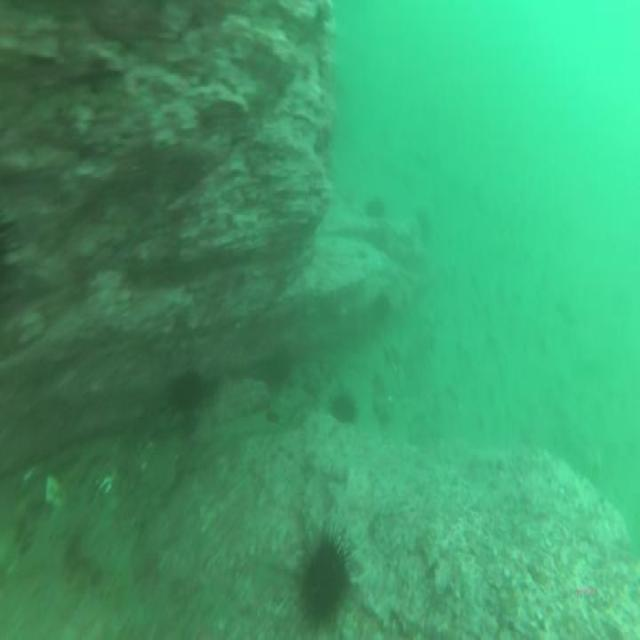echinus: (285, 523, 355, 638), (163, 368, 206, 417), (324, 389, 360, 431), (362, 193, 388, 221)
